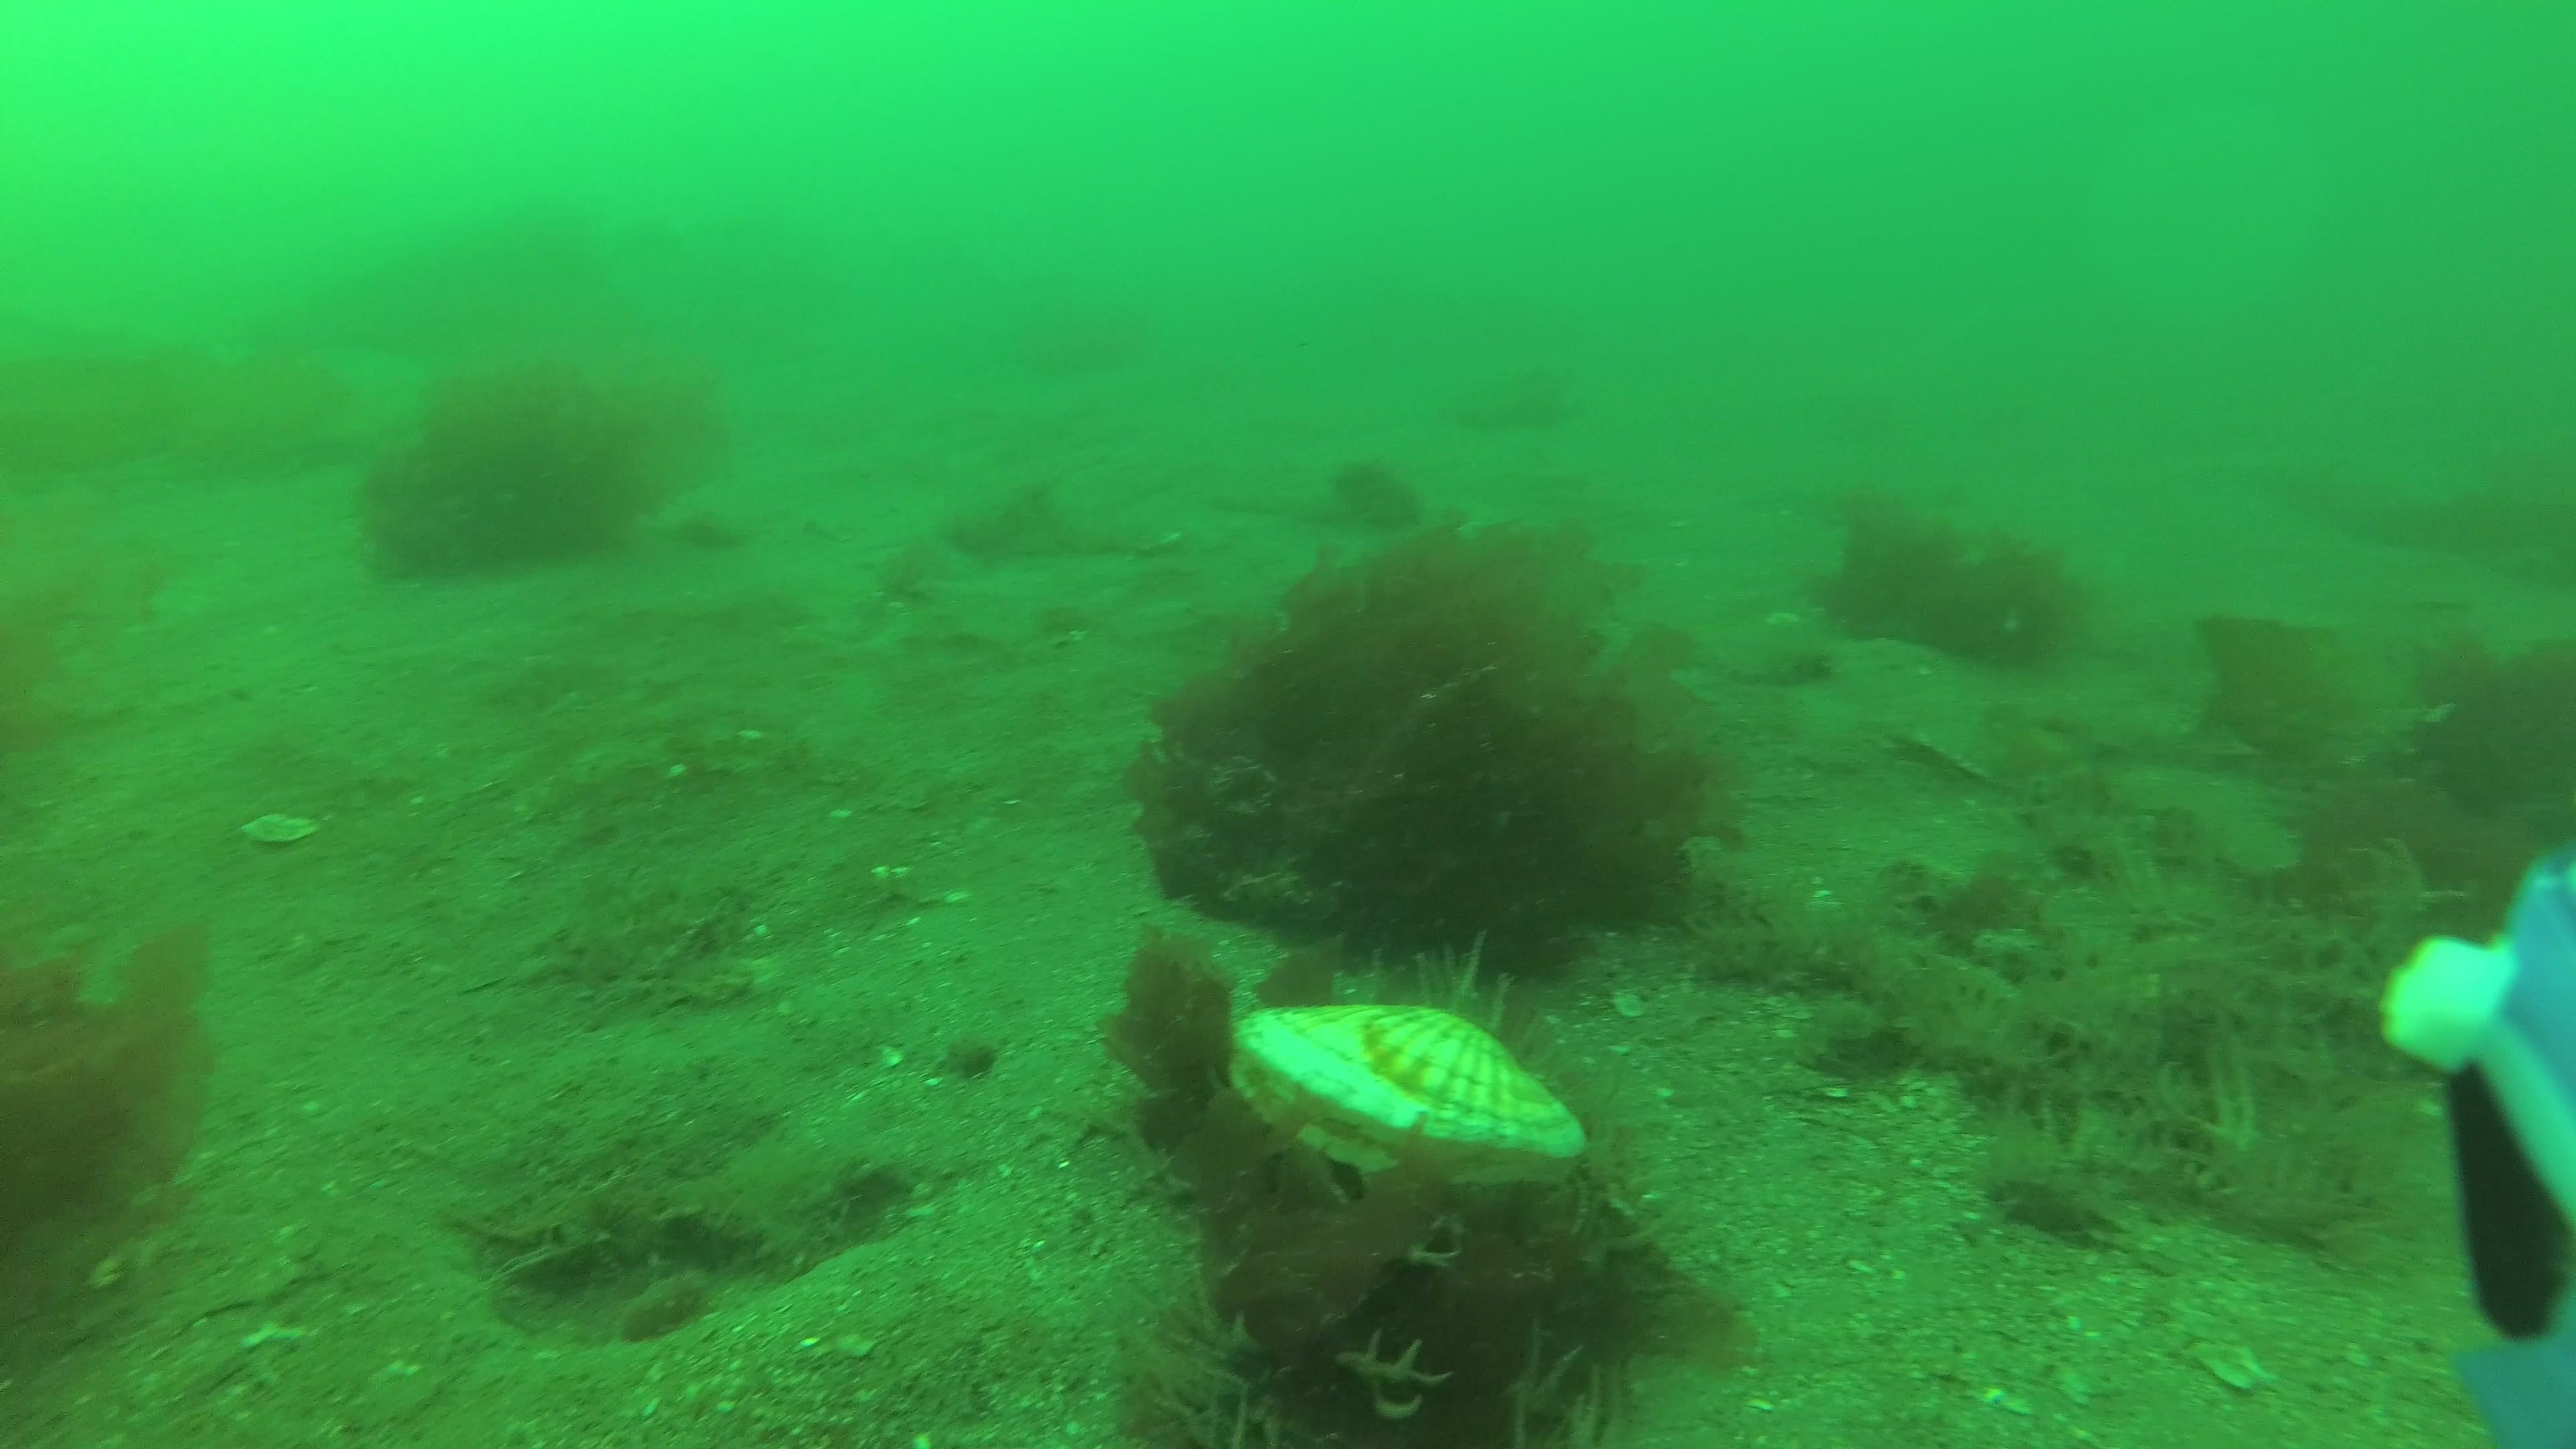scallop: (1230, 1003, 1587, 1201)
